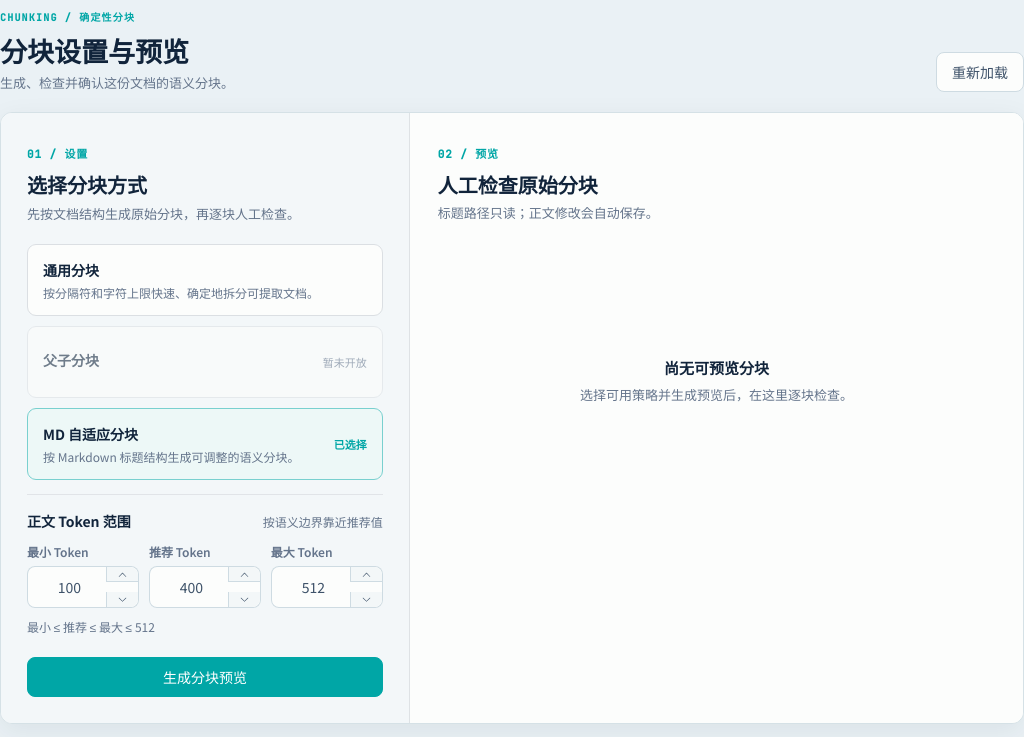
Test: ChunkingWorkspace › clears cross-field limit errors when max characters changes
Click the button "通用分块 按分隔符和字符上限快速、确定地拆分可提取文档。" at [71, 270], box [27,244,383,316]
(page scrolled)
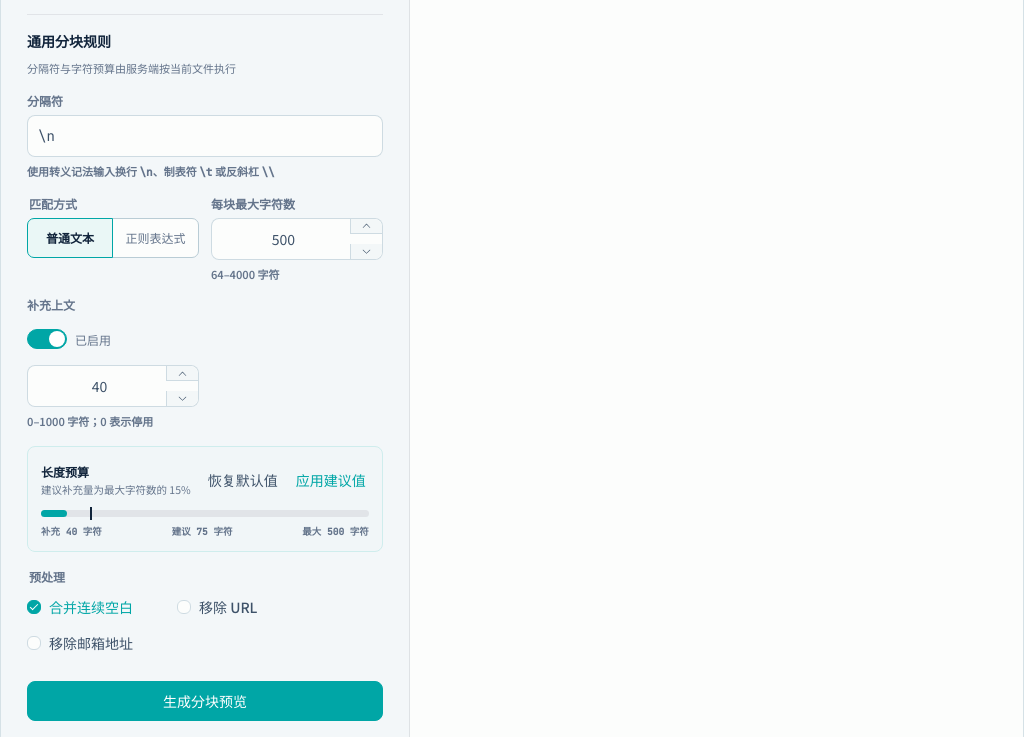
Click the button with test id "create-preview" at [205, 701], box [27,681,383,721]
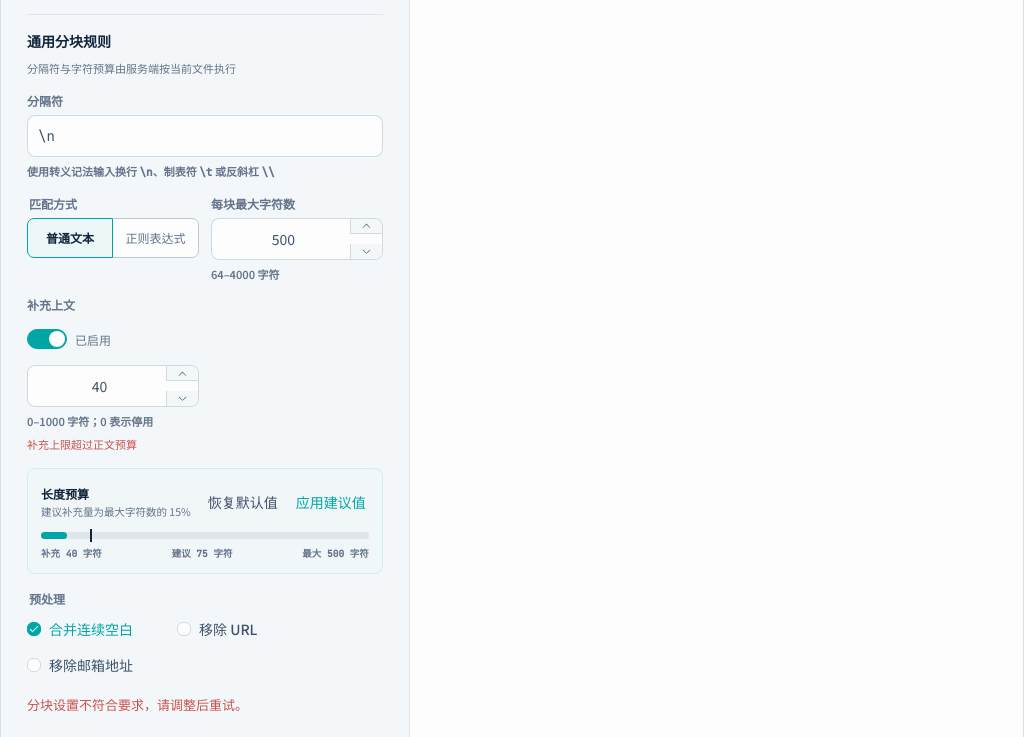
Replace the text in the number field labelled "每块最大字符数 64–4000 字符" with "600" at [283, 239], box [226,219,341,259]
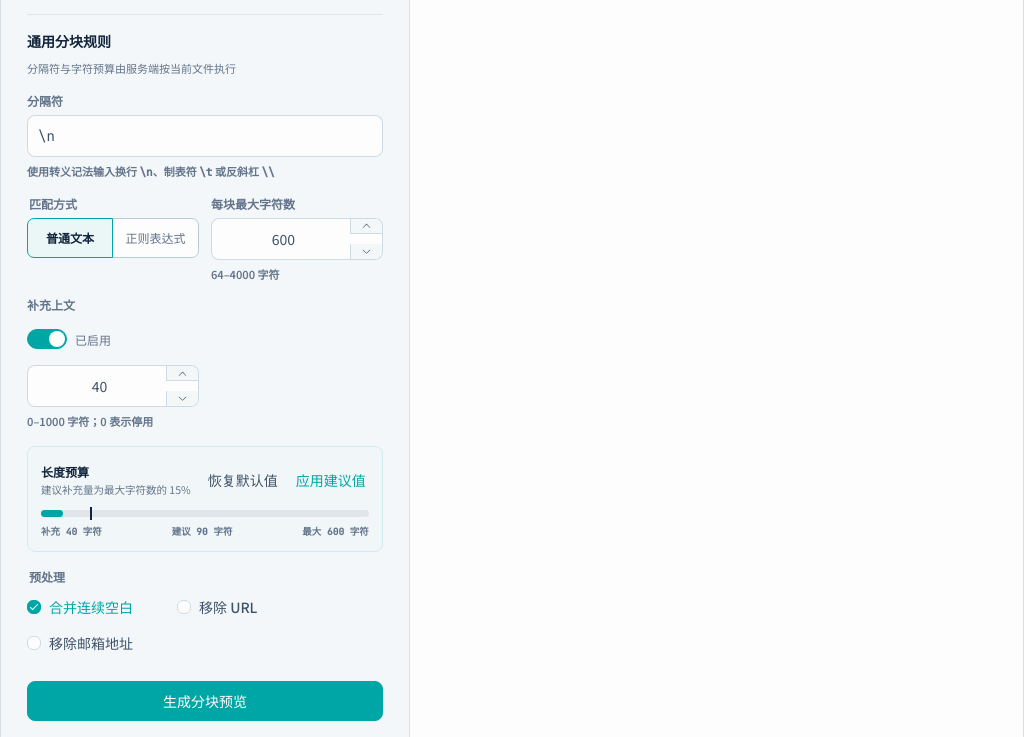
Expected: the text "补充上限超过正文预算" is gone
Expected: the button with test id "create-preview" is enabled, [27,681,383,721]
